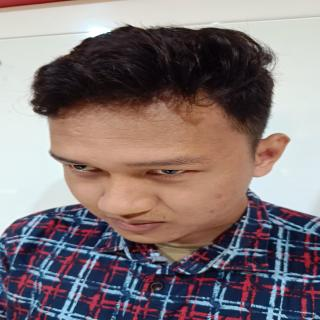Marah: (44, 81, 265, 250)
